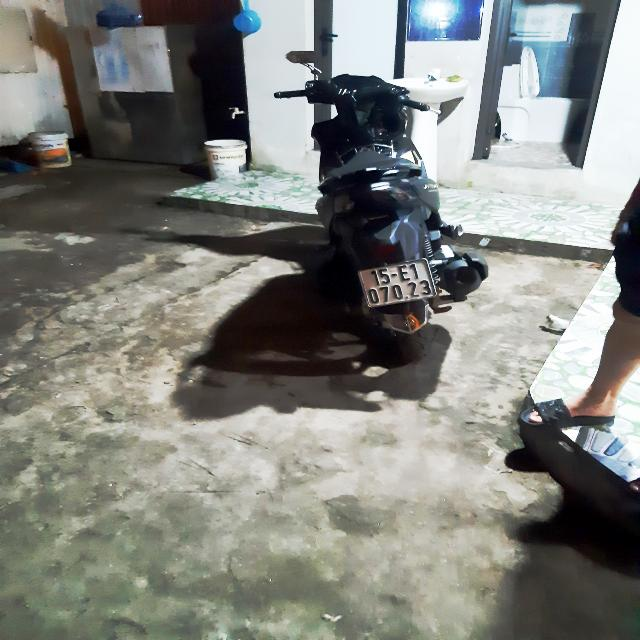license_plate: (351, 255, 443, 312)
